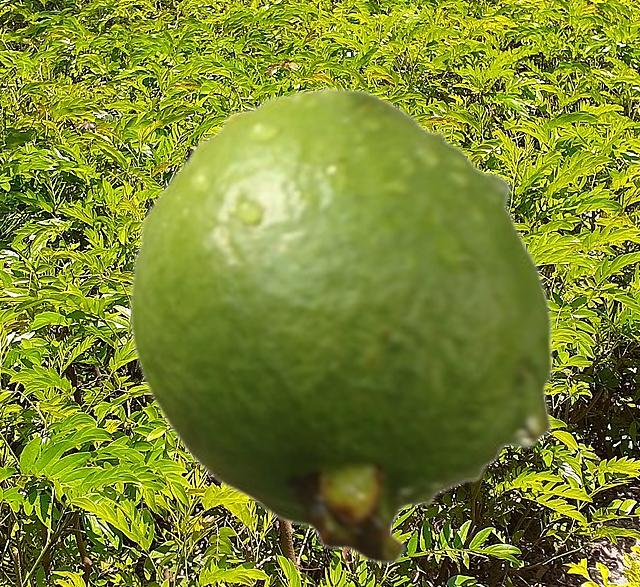guava: (127, 85, 553, 564)
